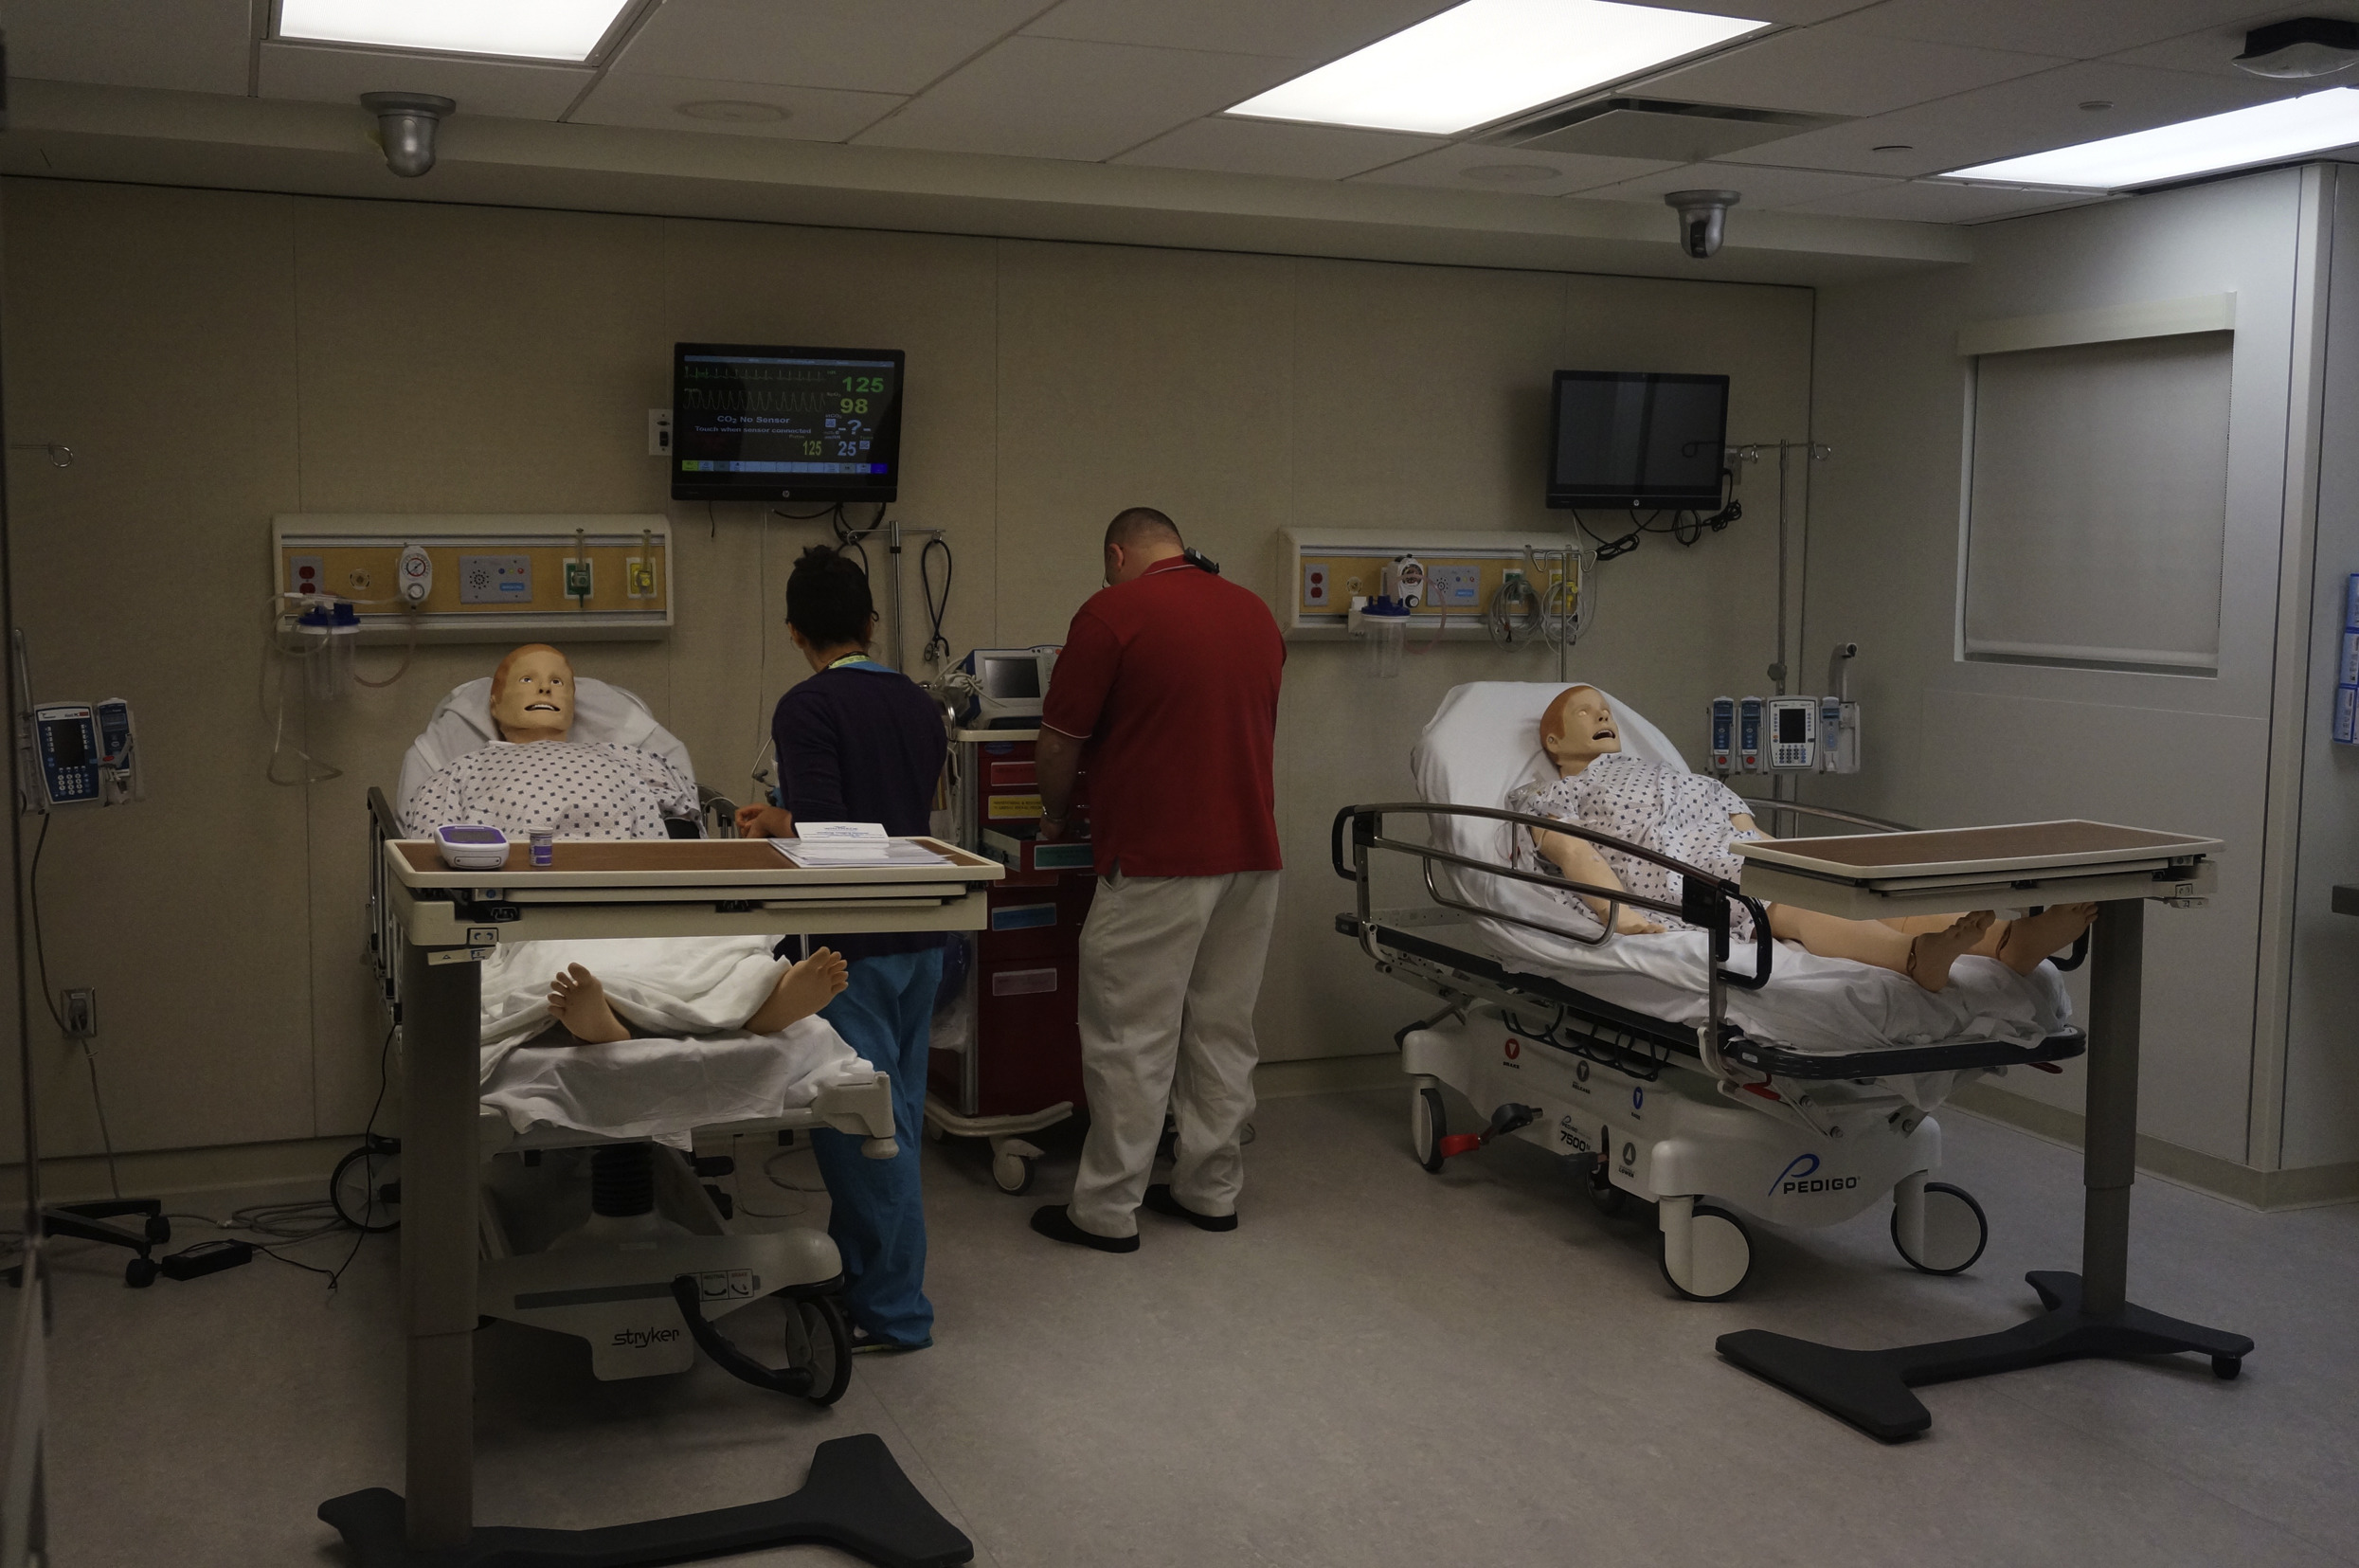TV: (671, 335, 904, 511), (1550, 369, 1731, 516)
bedrail: (1344, 795, 1782, 994)
hospital_bed: (1326, 676, 2097, 1311), (328, 674, 897, 1408)
infusion_pump: (1, 694, 150, 809), (1708, 694, 1859, 776)
iv_pole: (1, 424, 78, 1207), (1731, 437, 1836, 675)
medical_drawer: (920, 729, 1182, 1196)
overbed_table: (314, 831, 1009, 1568), (1713, 816, 2260, 1451)
patient: (1504, 683, 2094, 991), (405, 640, 849, 1042)
person: (1029, 505, 1290, 1252)
staff: (780, 544, 949, 1357)
